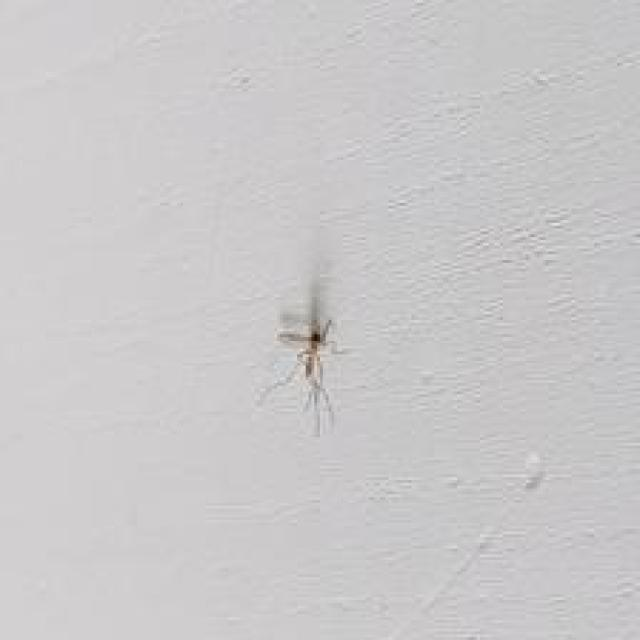Culex: (254, 272, 343, 437)
